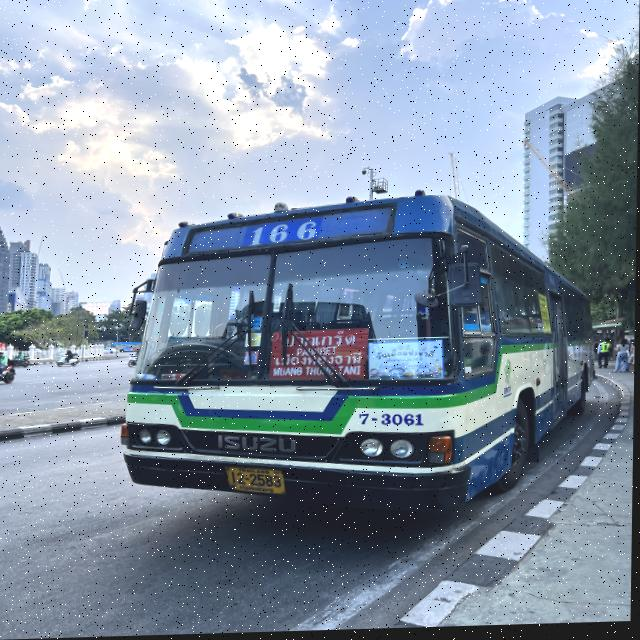BMTA-bus: (120, 192, 598, 525)
Bus-Line-Number: (243, 221, 323, 253)
Destination-Sign-Extra-Bus: (271, 326, 369, 387)
